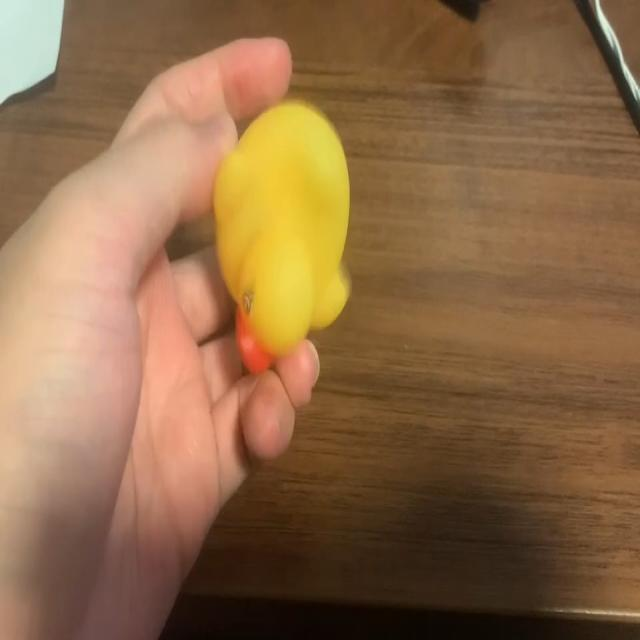rubber-duck: (213, 100, 348, 370)
